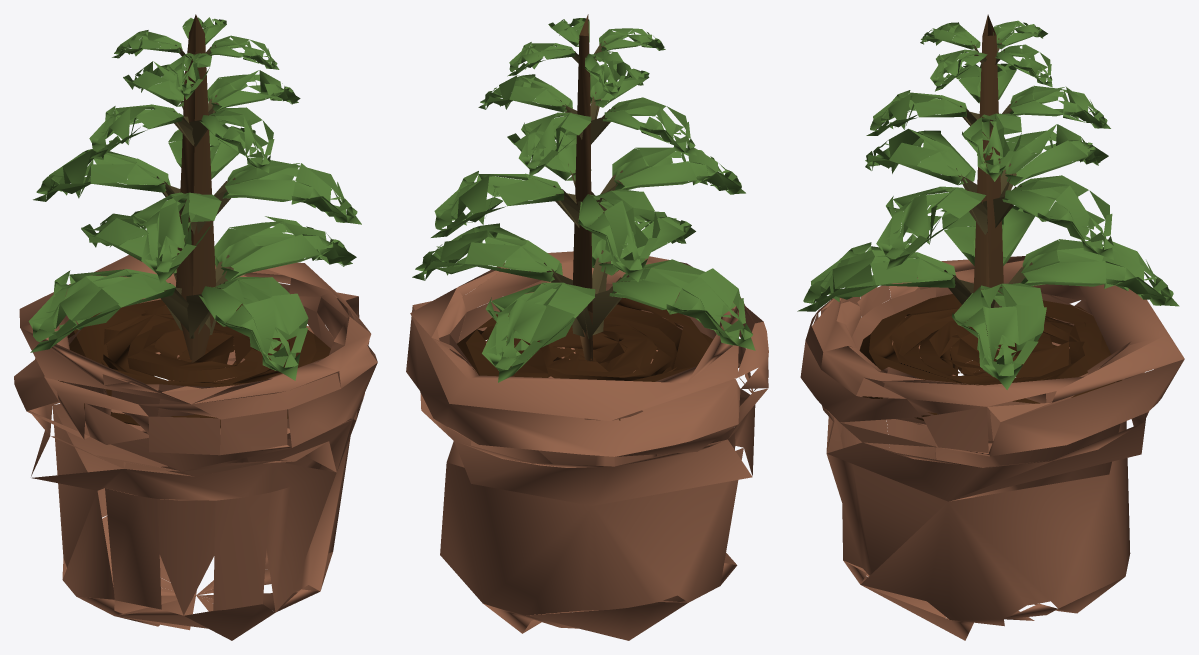
File: potted_plant.glb
3 views of the same model, side by side, from view 1: azimuth 30°, elevation 25°; view 2: azimuth 150°, elevation 25°; view 3: azimuth 270°, elevation 25° (orthographic).
Parts seen in each view (by area): view 1: potted_plant; view 2: potted_plant; view 3: potted_plant.
Part boxes in pixels (left/top/right/bottom): potted_plant: left=14, top=14, right=377, bottom=640; potted_plant: left=406, top=14, right=768, bottom=640; potted_plant: left=797, top=14, right=1184, bottom=640.
Bounding box in the file's own units: 1.4 × 2.35 × 1.4.
